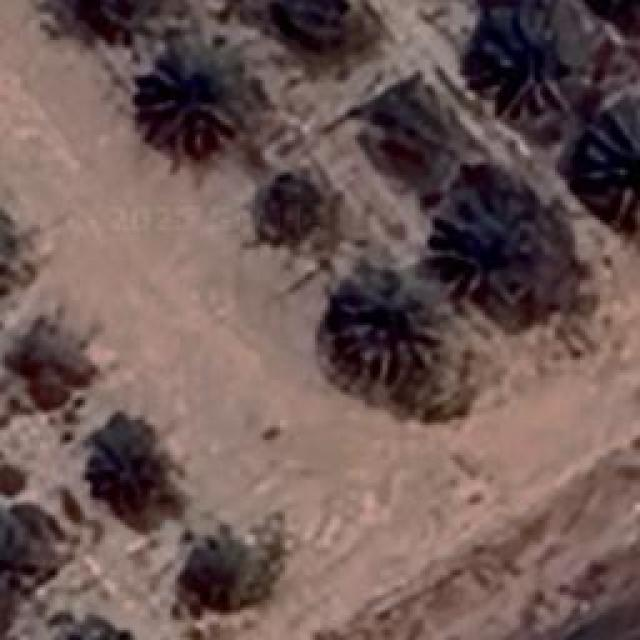PalmTree: (70, 75, 224, 574), (24, 89, 70, 549), (328, 255, 448, 383), (140, 28, 240, 148), (78, 424, 188, 518), (440, 190, 532, 302), (480, 12, 575, 120), (368, 100, 462, 175), (582, 115, 638, 220), (258, 170, 330, 247), (272, 0, 360, 55), (0, 203, 29, 304), (62, 0, 158, 28), (50, 614, 142, 640), (0, 200, 18, 302), (48, 623, 146, 640), (588, 0, 640, 32)
